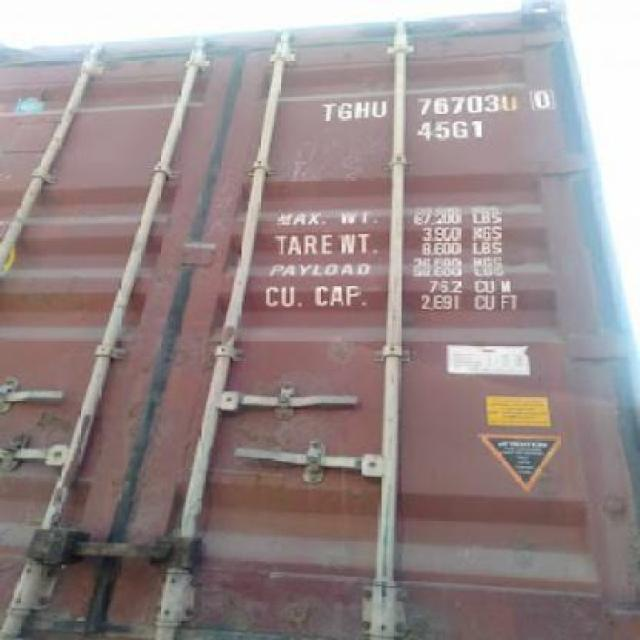ISO: (415, 122, 488, 142)
container_number: (320, 92, 554, 117)
